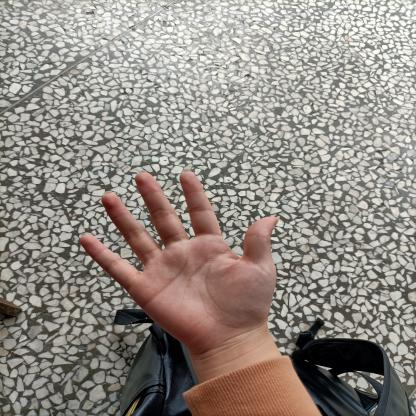bare_hand: (70, 166, 289, 364)
